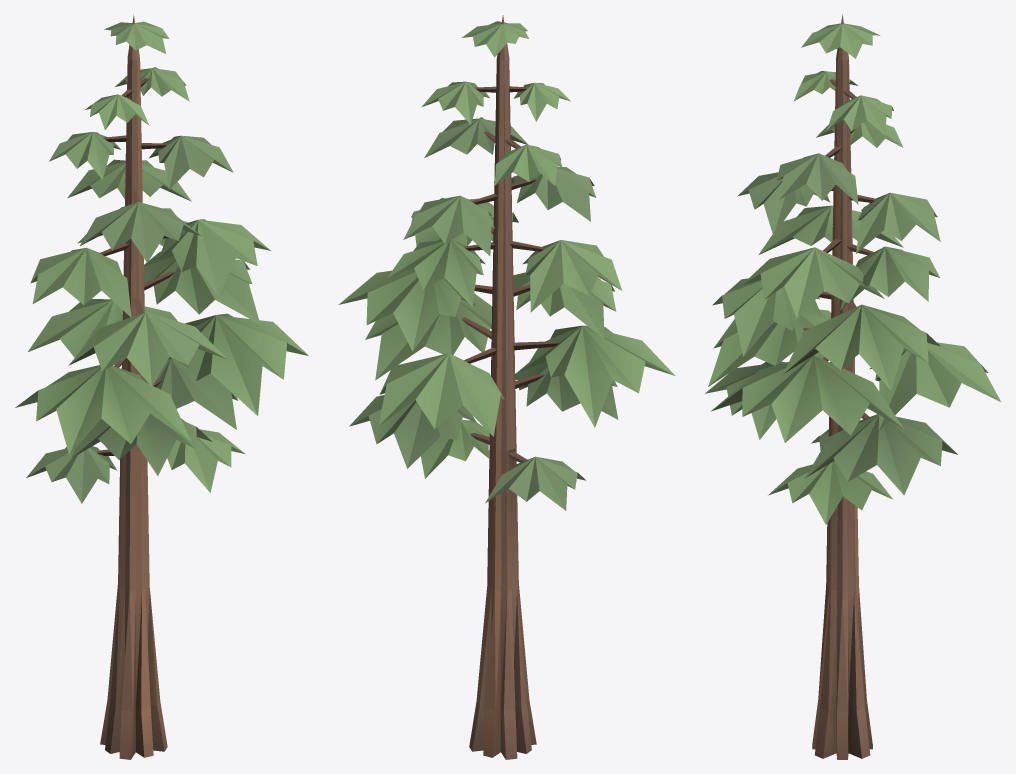
Rendered from redwood.glb.
The picture shows the model from 3 angles, left to right: view 1: azimuth 30°, elevation 25°; view 2: azimuth 150°, elevation 25°; view 3: azimuth 270°, elevation 25°; orthographic projection.
Parts seen in each view (by area): view 1: redwood; view 2: redwood; view 3: redwood.
Part boxes in pixels (x1,y1,x2,y2): redwood: [15, 14, 308, 759]; redwood: [338, 15, 675, 759]; redwood: [705, 14, 1000, 759].
Bounding box in the file's own units: 6.46 × 17 × 6.24.
